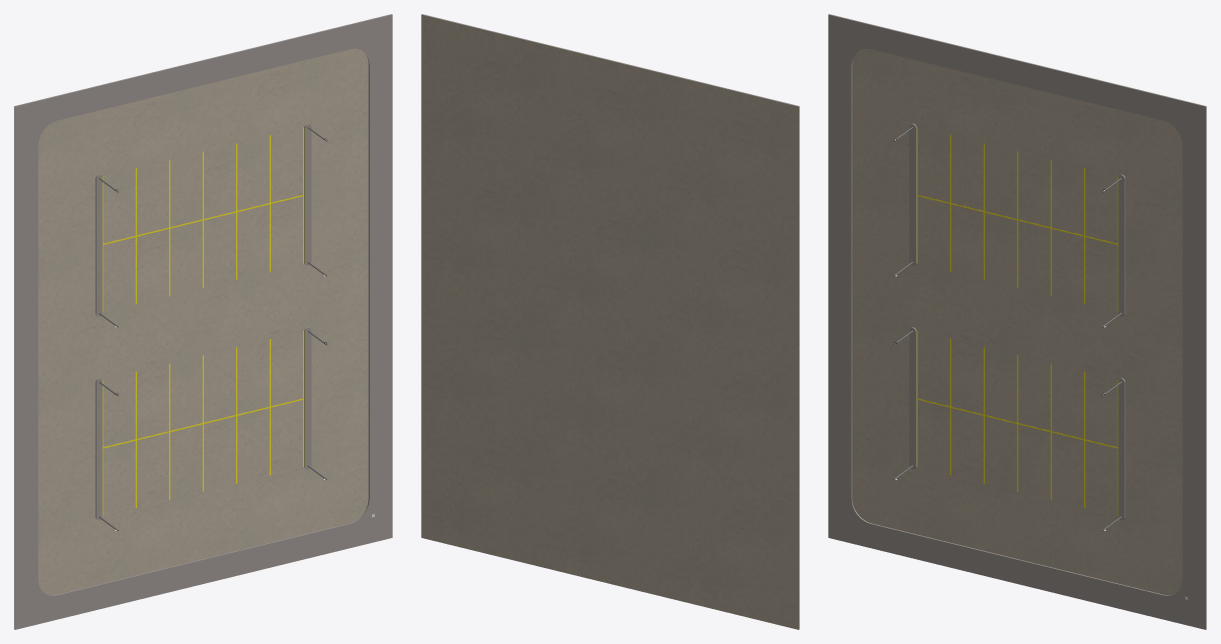
File: estacionamiento_2.obj
The picture shows the model from 3 angles, left to right: view 1: azimuth 30°, elevation 25°; view 2: azimuth 150°, elevation 25°; view 3: azimuth 330°, elevation 25°; orthographic projection.
Parts seen in each view (by area): view 1: Root|Estacionamiento_2_VISUALIZE_(Predeterminado)|Merged_Parts|P; view 2: Root|Estacionamiento_2_VISUALIZE_(Predeterminado)|Merged_Parts|P; view 3: Root|Estacionamiento_2_VISUALIZE_(Predeterminado)|Merged_Parts|P.
Part boxes in pixels (x1,y1,x2,y2): Root|Estacionamiento_2_VISUALIZE_(Predeterminado)|Merged_Parts|P: (14, 14, 392, 629); Root|Estacionamiento_2_VISUALIZE_(Predeterminado)|Merged_Parts|P: (421, 14, 799, 629); Root|Estacionamiento_2_VISUALIZE_(Predeterminado)|Merged_Parts|P: (828, 14, 1206, 629).
Size of the model in its own units: 29.3 by 38.8 by 2.61.
Materials: 6 (1 with a texture image).
